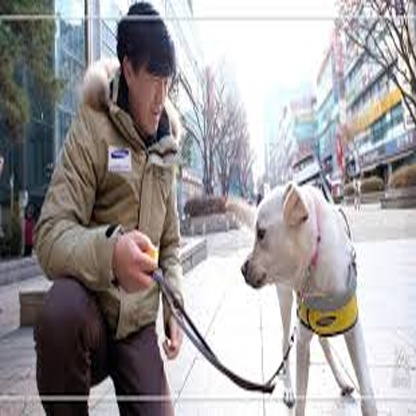guide-dog: (236, 176, 384, 416)
